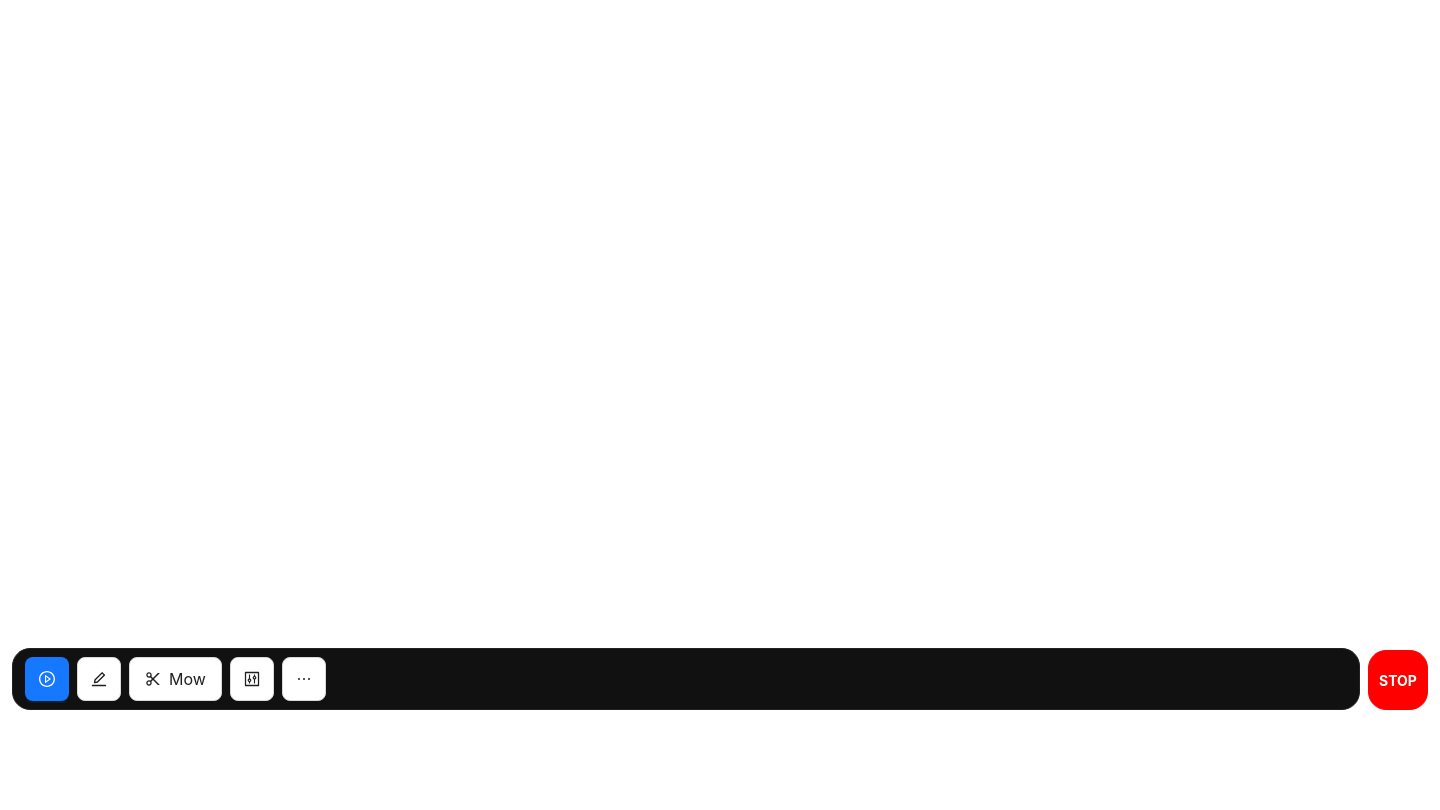
Test: MapToolbarMobile › reports a rejected area start and clears its loading state
Click the button with aria-label "Mow area". click: click(175, 679)
box: [129, 657, 222, 701]
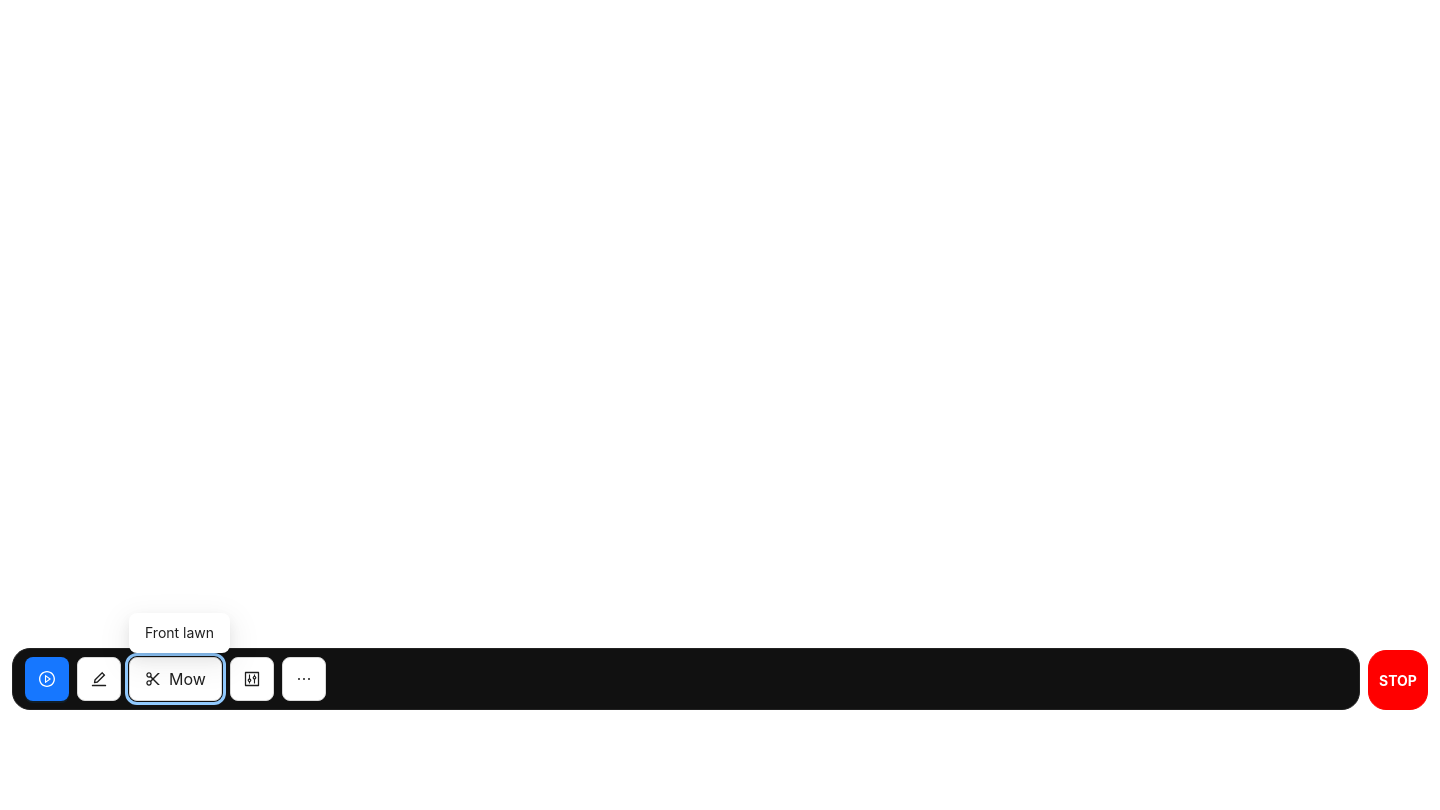
Click the menu item "Front lawn". click: click(180, 632)
box: [145, 624, 214, 641]
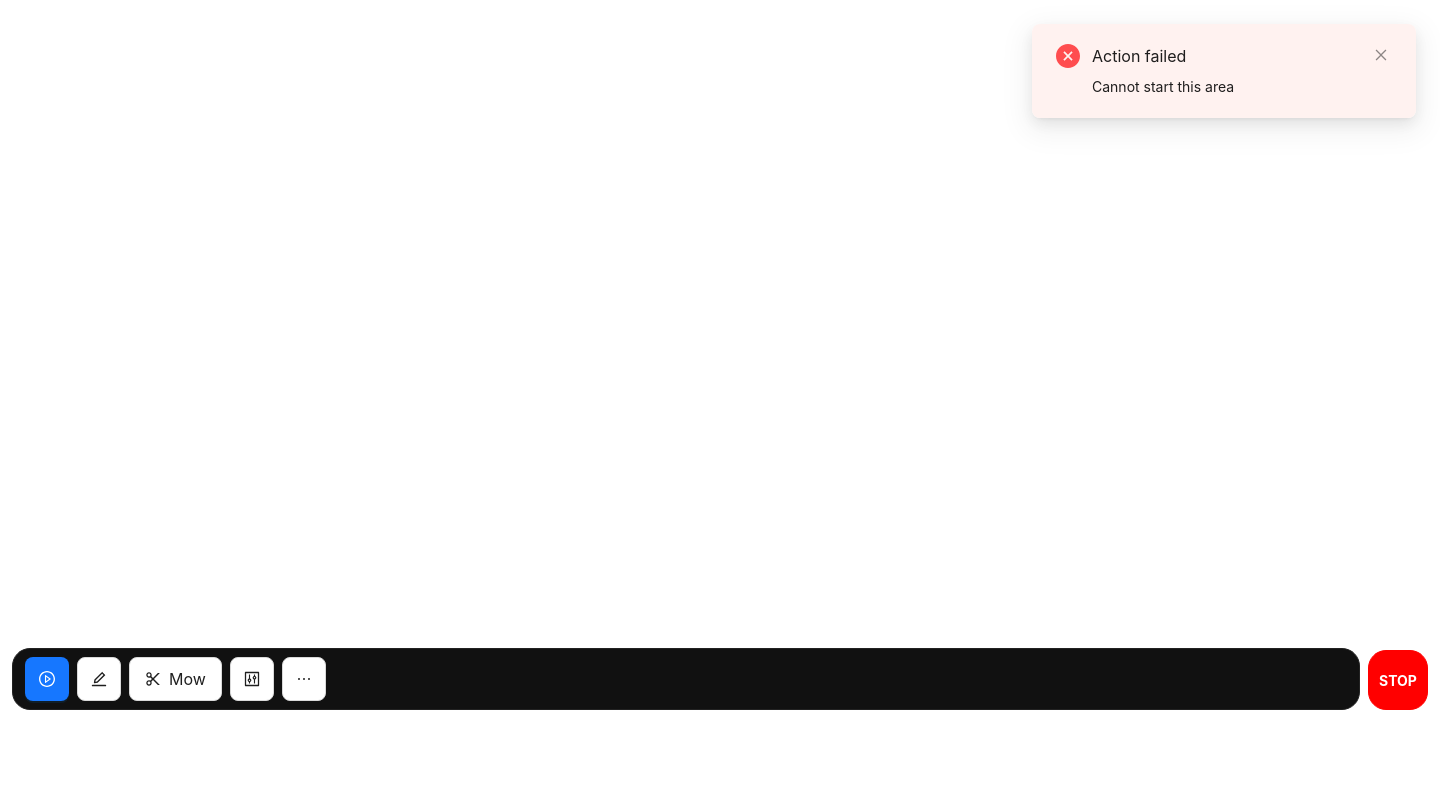
Now the text "Cannot start this area" is shown, box [1092, 78, 1234, 95]
